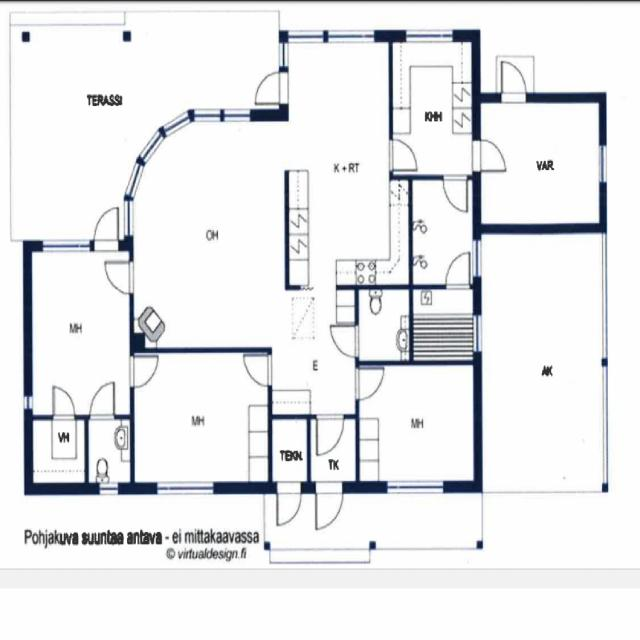door: (316, 482, 344, 530), (317, 414, 345, 456), (254, 70, 288, 104), (94, 208, 119, 252), (277, 482, 301, 526), (502, 60, 526, 104), (472, 140, 504, 170), (446, 252, 471, 290), (443, 174, 468, 212), (244, 354, 273, 386), (105, 262, 134, 293), (90, 382, 114, 419), (390, 139, 418, 170), (332, 325, 359, 357), (129, 356, 157, 386), (356, 368, 383, 399), (53, 384, 75, 419)
